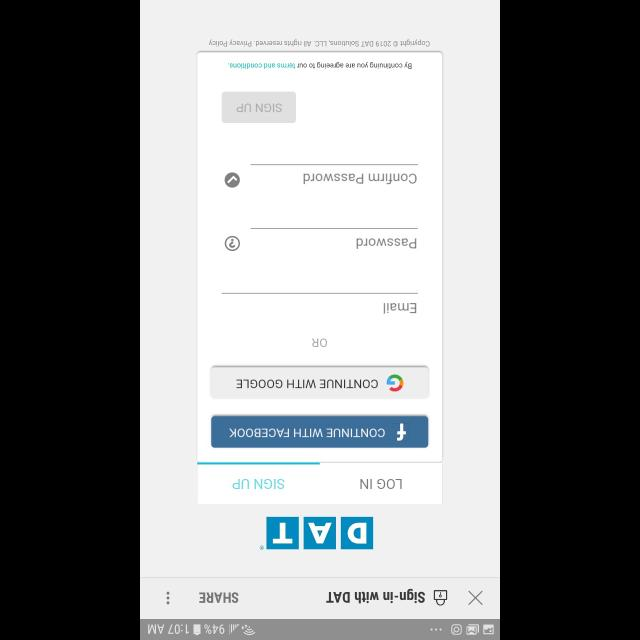icon: (224, 172, 240, 188), (433, 589, 447, 605), (468, 590, 482, 606), (224, 236, 240, 250), (166, 591, 170, 605)
image: (259, 516, 373, 550)
input: (221, 292, 417, 314), (250, 163, 418, 184), (250, 228, 418, 248)
text: (208, 39, 430, 47), (326, 588, 424, 604), (228, 62, 412, 70), (303, 173, 417, 184), (356, 238, 416, 250), (232, 478, 284, 489), (198, 592, 238, 604), (360, 478, 402, 489), (384, 302, 416, 314), (312, 338, 326, 348)
textbutton: (210, 416, 428, 448), (211, 366, 429, 398), (222, 91, 296, 123)
uppertaskbar: (140, 618, 500, 640)
